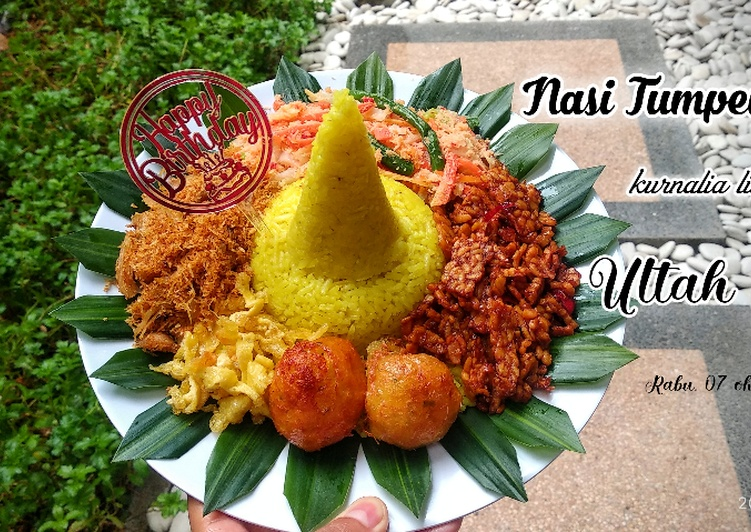nasi_tumpeng: (116, 80, 579, 449)
